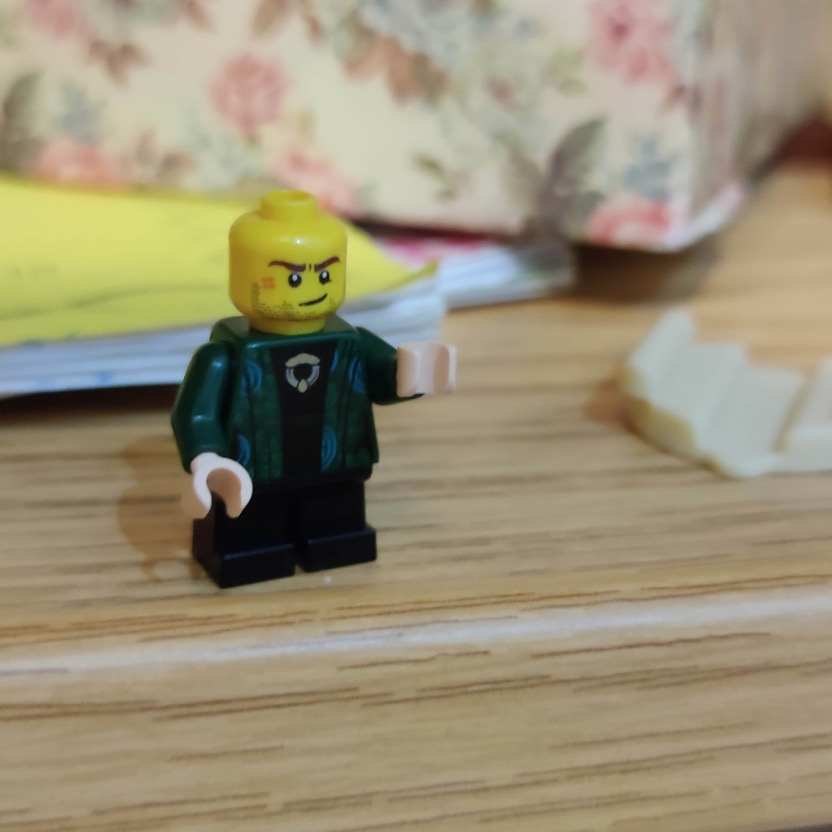lego: (168, 191, 458, 591)
